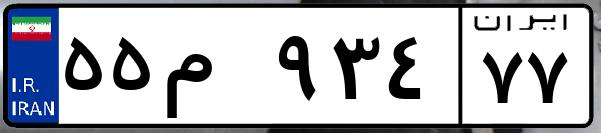3: (330, 28, 385, 110)
4: (385, 28, 445, 110)
5: (57, 26, 110, 100), (110, 28, 158, 98)
7: (475, 38, 525, 113), (525, 38, 570, 115)
9: (270, 28, 330, 110)
م: (158, 20, 270, 120)
